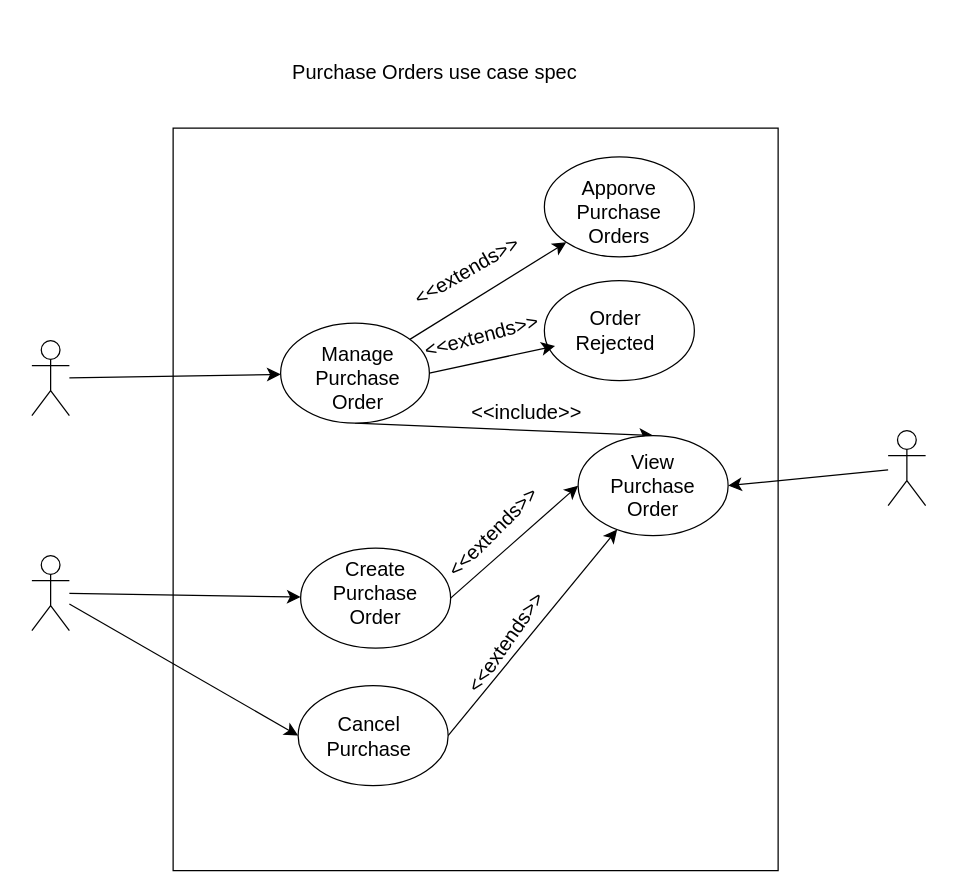
The diagram is 961 pixels wide and 893 high, and some of its shapes have lost their labels. Each missing label, with the centre of its shape:
"Admin" belongs at point 50,377.
"Employee" belongs at point 906,467.
"Manager" belongs at point 50,592.
